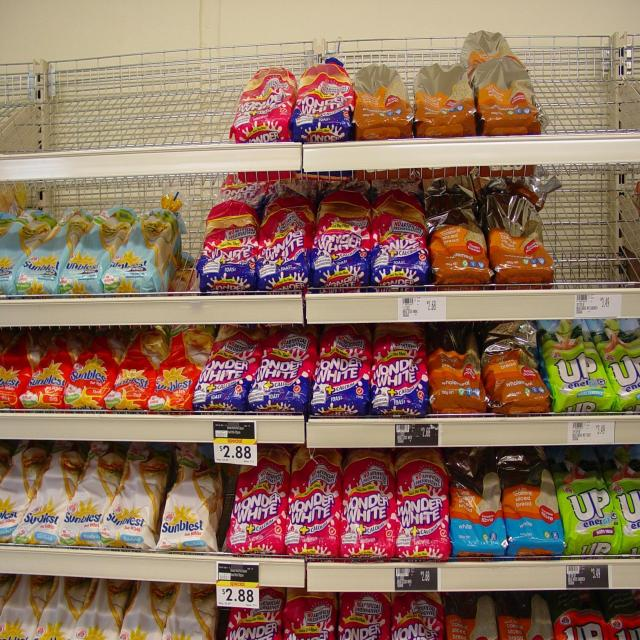empty_space: (10, 62, 221, 139), (543, 54, 640, 128), (552, 198, 640, 277), (183, 205, 196, 291)
